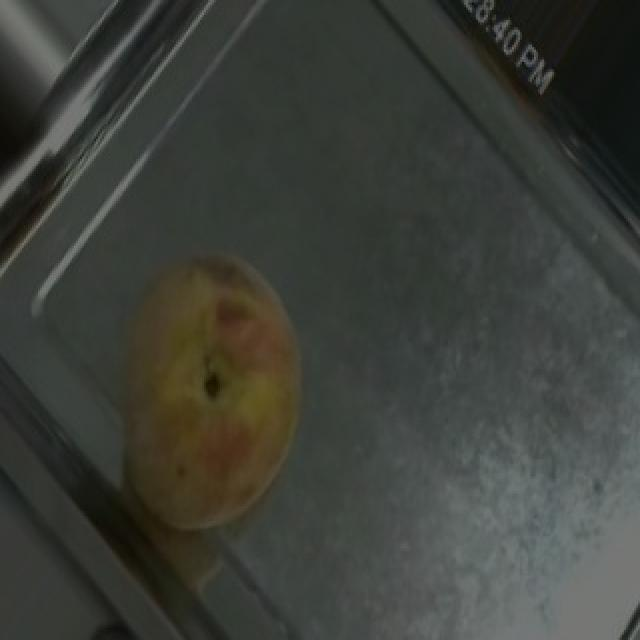Fruit: (70, 218, 352, 573)
